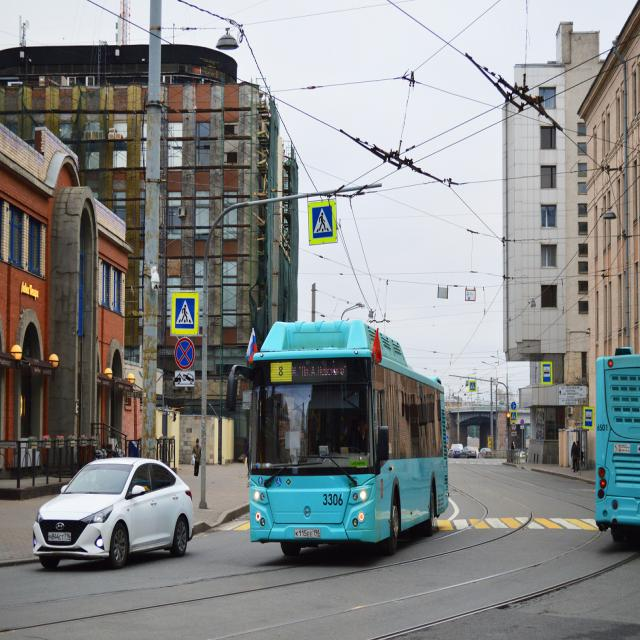number-of-bus: (274, 364, 290, 381)
